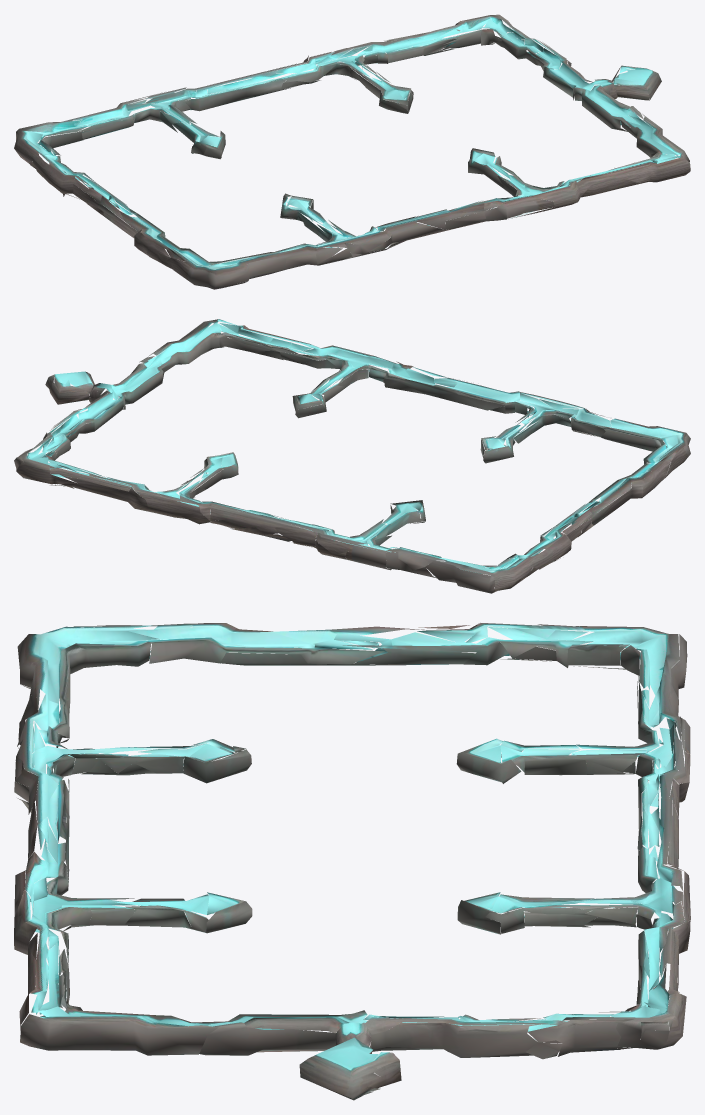
File: card_carrier_glow.glb
3 renders of one model, top to bottom at view 1: azimuth 30°, elevation 25°; view 2: azimuth 150°, elevation 25°; view 3: azimuth 270°, elevation 25°, orthographic. The views are drawn at different scales.
Parts seen in each view (by area): view 1: tripo_node_de5fba5f-c8d9-4045-bede-40a609f2afca; view 2: tripo_node_de5fba5f-c8d9-4045-bede-40a609f2afca; view 3: tripo_node_de5fba5f-c8d9-4045-bede-40a609f2afca.
Part boxes in pixels (x1,y1,x2,y2): tripo_node_de5fba5f-c8d9-4045-bede-40a609f2afca: [14, 14, 690, 289]; tripo_node_de5fba5f-c8d9-4045-bede-40a609f2afca: [14, 319, 690, 593]; tripo_node_de5fba5f-c8d9-4045-bede-40a609f2afca: [14, 623, 690, 1100].
Bounding box in the file's own units: 0.8566 × 0.0372 × 0.5358.
Materials: 1 (1 with a texture image).
